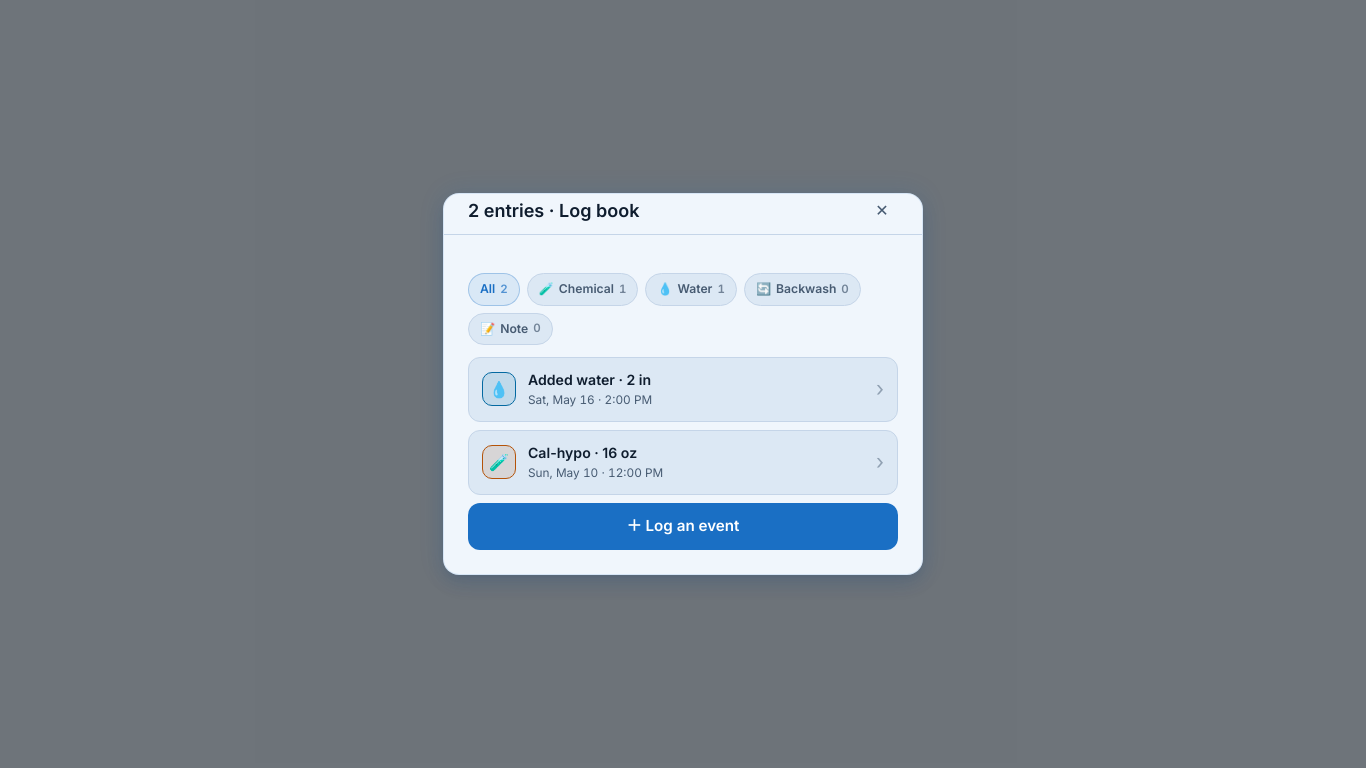
Scenario: LogBookSheet › filters by kind
What coordinates should you click on to do the following:
click the button "💧 Water 1"
I would click on:
 (691, 290)
Its box is [645,274,737,306].
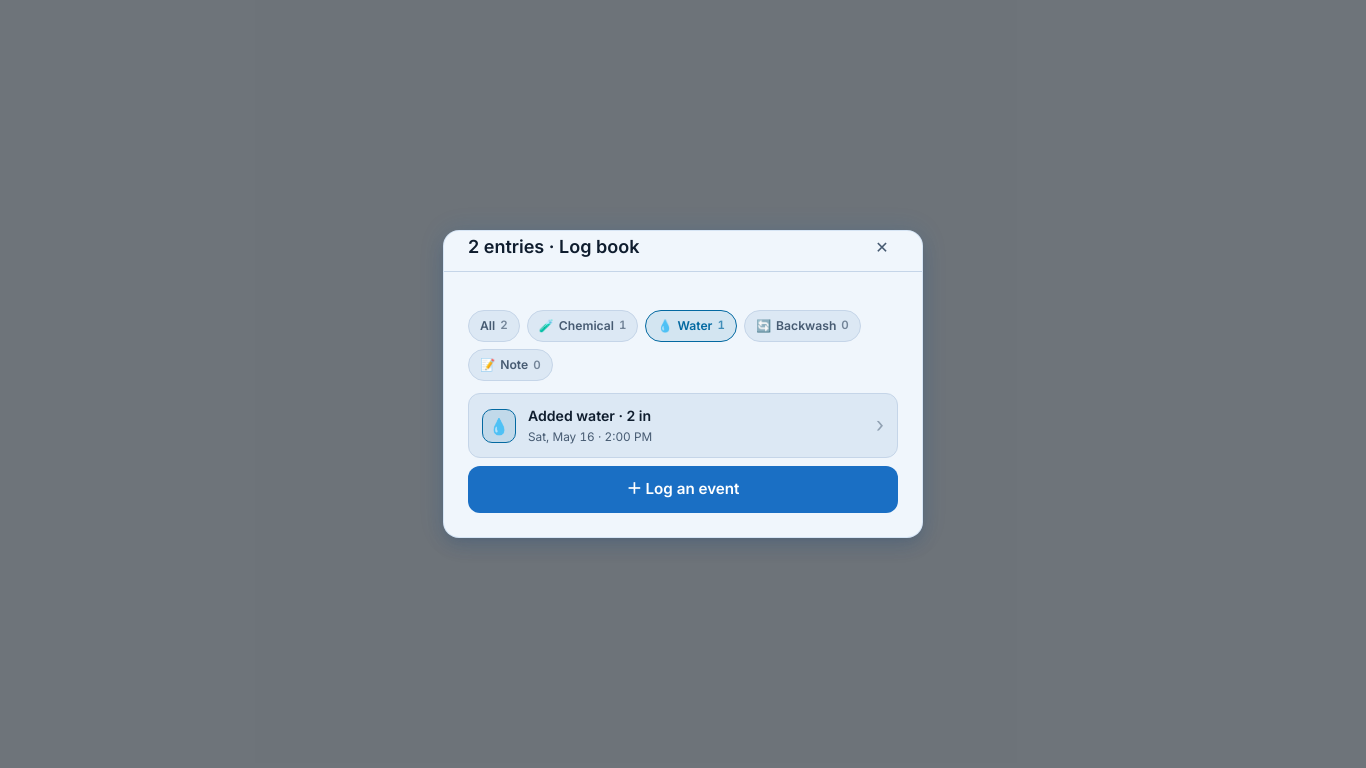
Expected: the text "Added water · 2 in" is shown, [528,407,651,424]
Expected: the button "Cal-hypo · 16 oz" is gone
